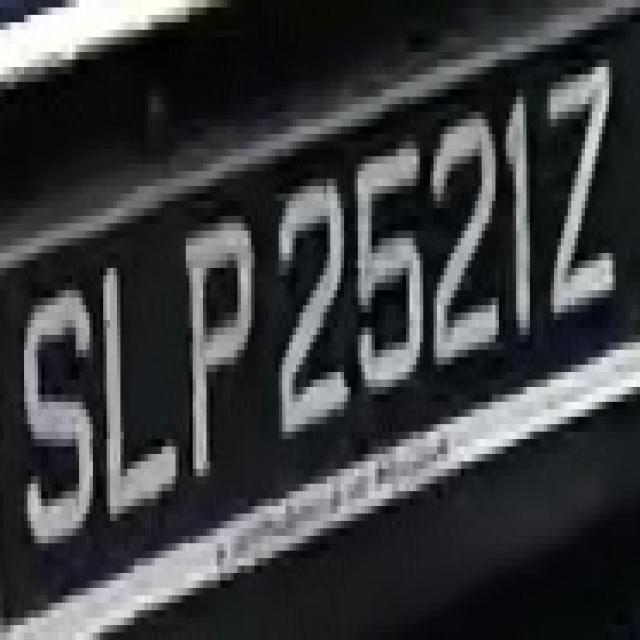1: (495, 52, 537, 350)
2: (272, 178, 365, 446), (416, 112, 509, 380)
5: (351, 119, 437, 424)
L: (86, 238, 176, 521)
P: (175, 201, 265, 484)
S: (17, 275, 107, 573)
Z: (530, 37, 623, 335)
